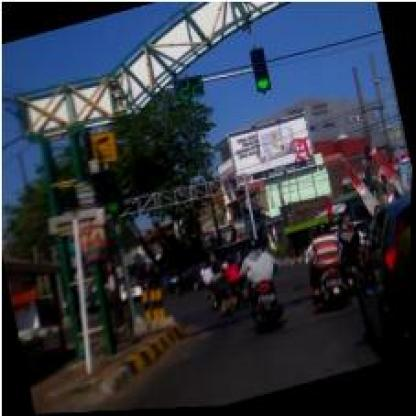green: (97, 169, 123, 216), (248, 46, 272, 92)
